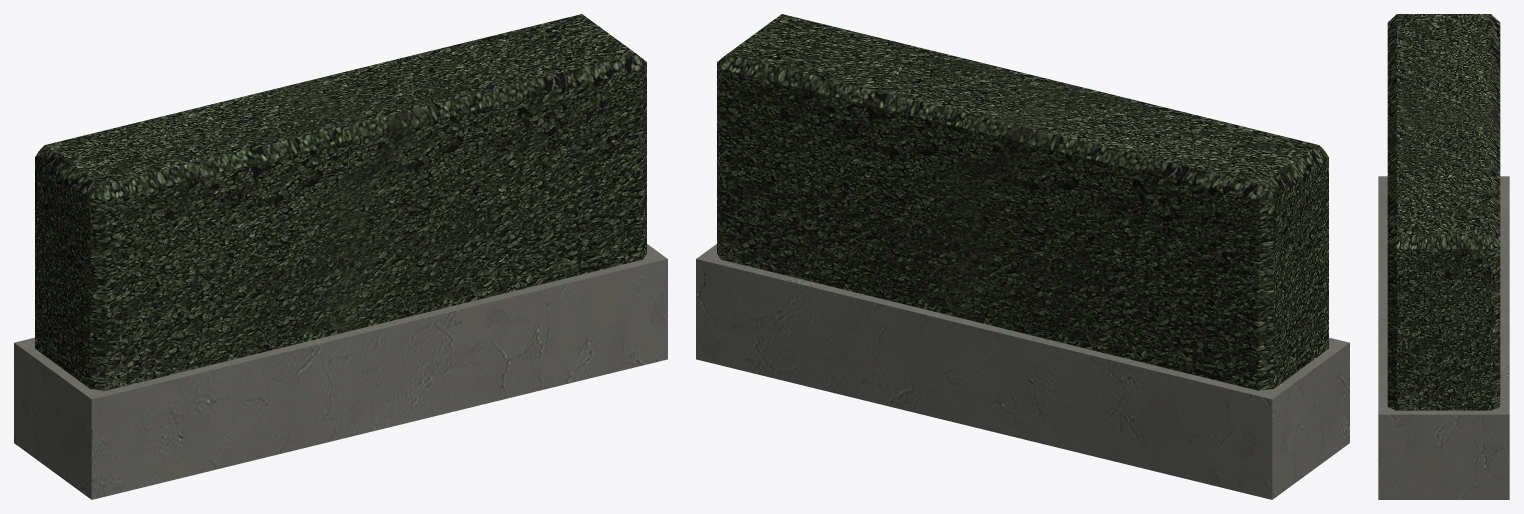
Rendered from hedge_with_base.fbx.
The picture shows the model from 3 angles, left to right: view 1: azimuth 30°, elevation 25°; view 2: azimuth 150°, elevation 25°; view 3: azimuth 270°, elevation 25°; orthographic projection. The views are drawn at different scales.
Parts seen in each view (by area): view 1: hedge_with_base; view 2: hedge_with_base; view 3: hedge_with_base.
Boxes of the visible parts, box(x1,y1,x2,y2) form: hedge_with_base: box(14, 14, 667, 499); hedge_with_base: box(696, 14, 1349, 499); hedge_with_base: box(1378, 14, 1509, 499).
Bounding box in the file's own units: 600 × 300 × 140.
